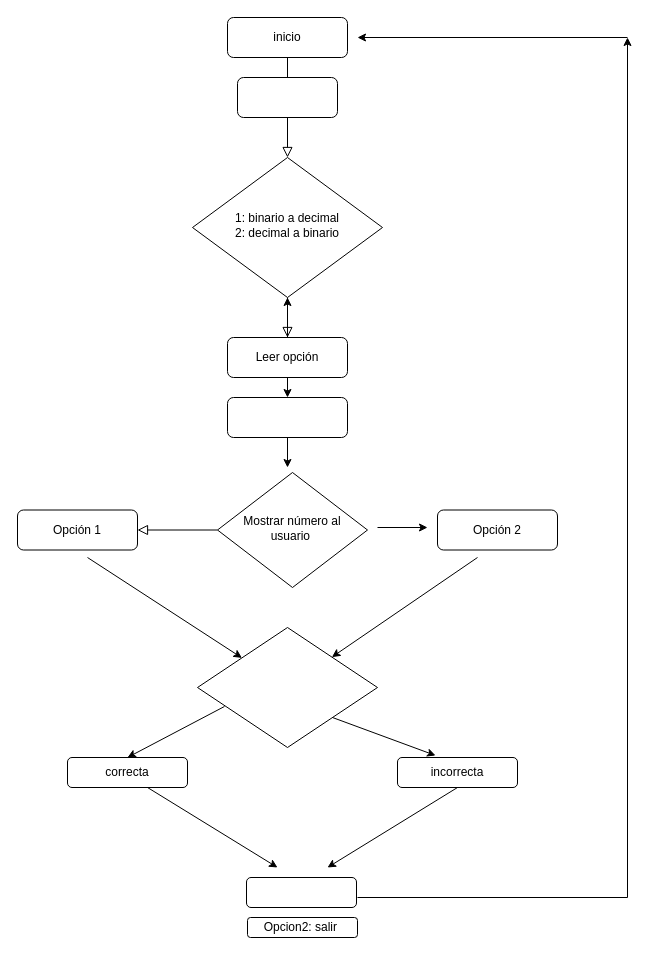
Image size: 653x955. Some labels were removed from this diagram. The centre of each missing label's shape, as x and y in pixels:
Elegir opción:: (287,97)
Generar número aleatorio: (287,417)
Opcion 1: jugar otra vez: (301,892)
Pedir respuesta al usuario: (287,687)
